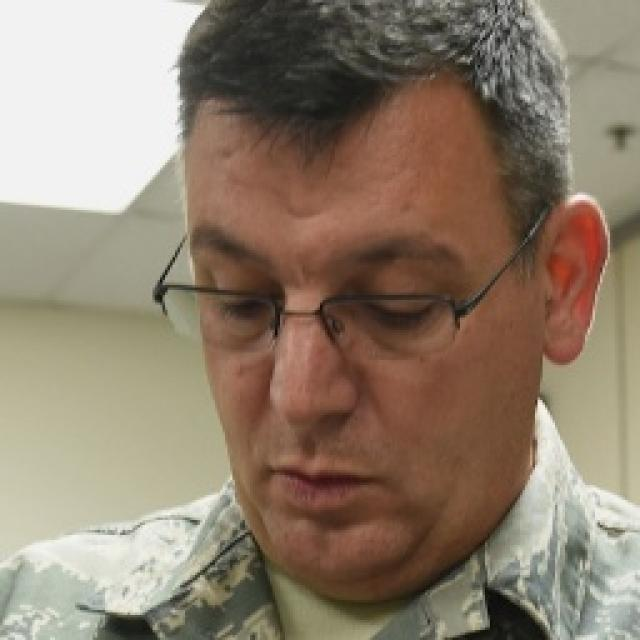glasses: (130, 226, 556, 362)
